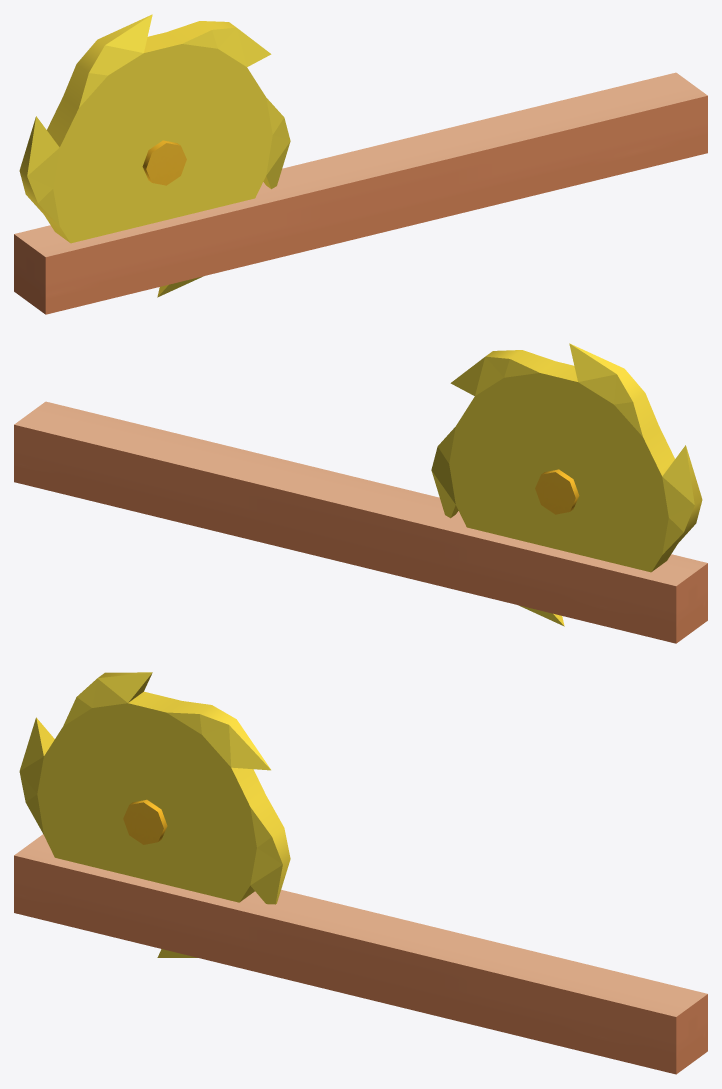
The model's file is Gear_01.FBX.
The picture shows the model from 3 angles, top to bottom: view 1: azimuth 30°, elevation 25°; view 2: azimuth 150°, elevation 25°; view 3: azimuth 330°, elevation 25°; orthographic projection.
Visible parts, largest first — view 1: Gear_02, Gear_01; view 2: Gear_02, Gear_01; view 3: Gear_02, Gear_01.
Boxes of the visible parts, bbox=[...] form: Gear_02: bbox=[14, 72, 707, 314]; Gear_01: bbox=[19, 14, 290, 297]; Gear_02: bbox=[14, 401, 707, 643]; Gear_01: bbox=[431, 343, 702, 626]; Gear_02: bbox=[14, 834, 707, 1074]; Gear_01: bbox=[19, 672, 290, 957].
Size of the model in its own units: 2.44 by 0.9902 by 0.2.
